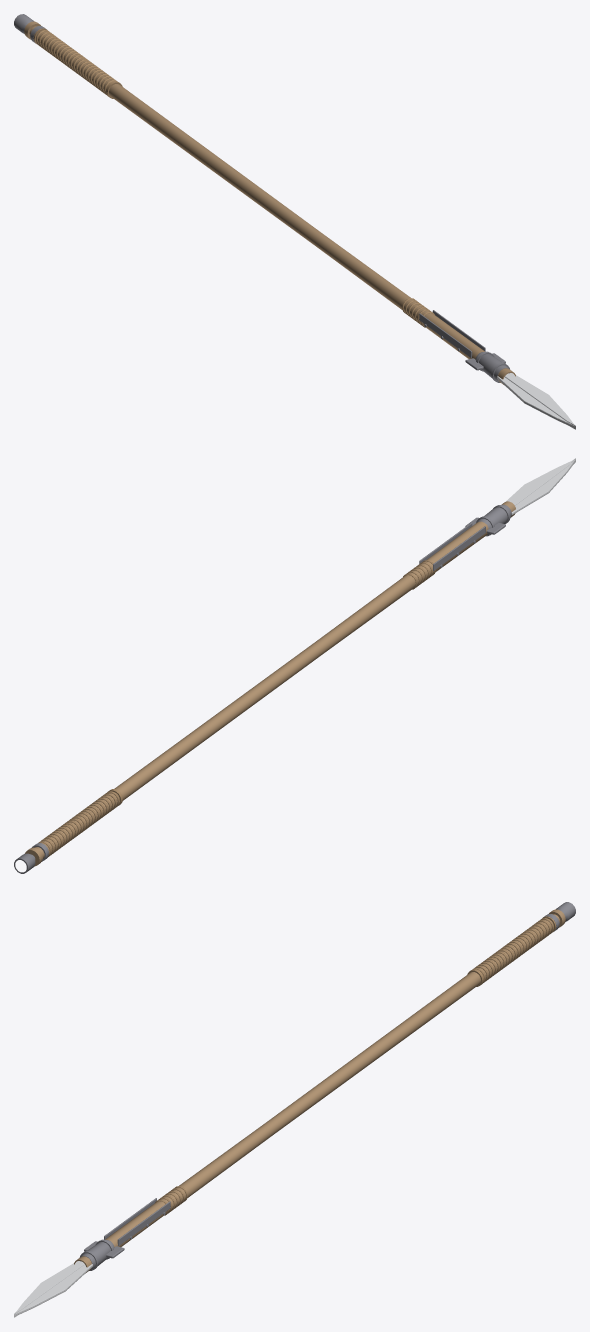
Rendered from winged-spear.glb.
3 renders of one model, top to bottom at view 1: azimuth 30°, elevation 25°; view 2: azimuth 150°, elevation 25°; view 3: azimuth 330°, elevation 25°, orthographic.
Visible parts, largest first — view 1: winged-spear; view 2: winged-spear; view 3: winged-spear.
Boxes of the visible parts, x1=… form: winged-spear: x1=14, y1=14, x2=575, y2=429; winged-spear: x1=14, y1=458, x2=575, y2=873; winged-spear: x1=14, y1=902, x2=575, y2=1317.
Size of the model in its own units: 0.0715 by 0.0428 by 2.34.
